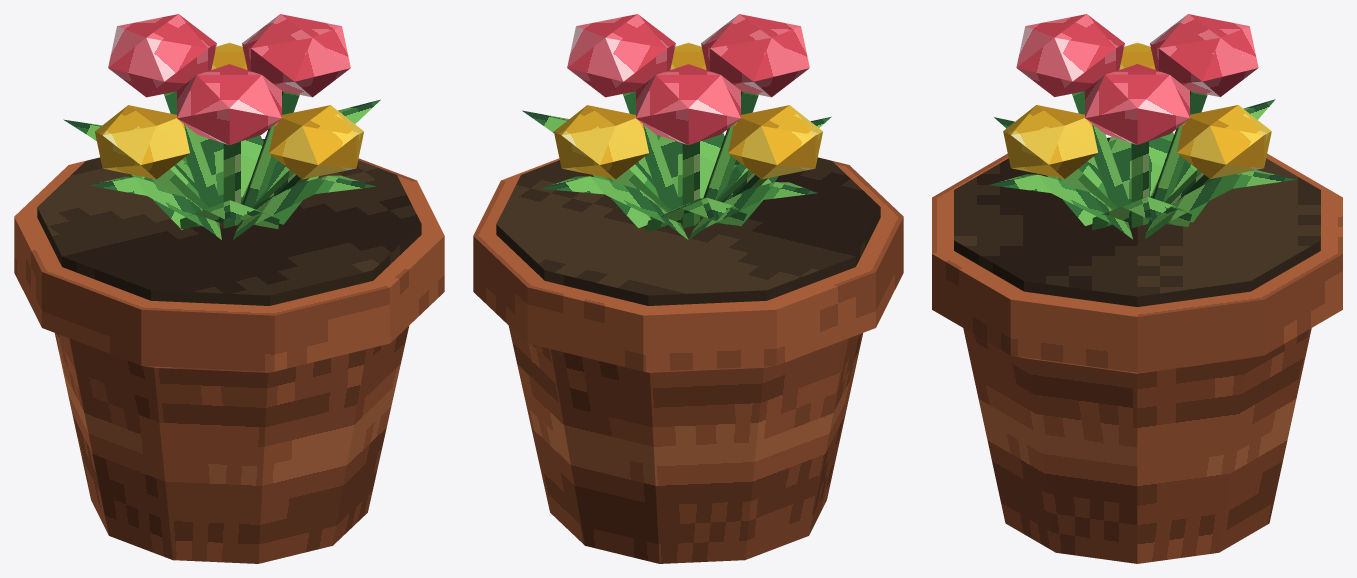
Rendered from flower_pot.glb.
3 renders of one model, left to right at view 1: azimuth 30°, elevation 25°; view 2: azimuth 150°, elevation 25°; view 3: azimuth 270°, elevation 25°, orthographic.
Visible parts, largest first — view 1: flower_pot; view 2: flower_pot; view 3: flower_pot.
Boxes of the visible parts, <box> form: flower_pot: <box>14,14,444,563</box>; flower_pot: <box>473,14,903,563</box>; flower_pot: <box>932,14,1342,563</box>.
Bounding box in the file's own units: 0.5917 × 0.7 × 0.5627.
Materials: 3 (3 with a texture image).
